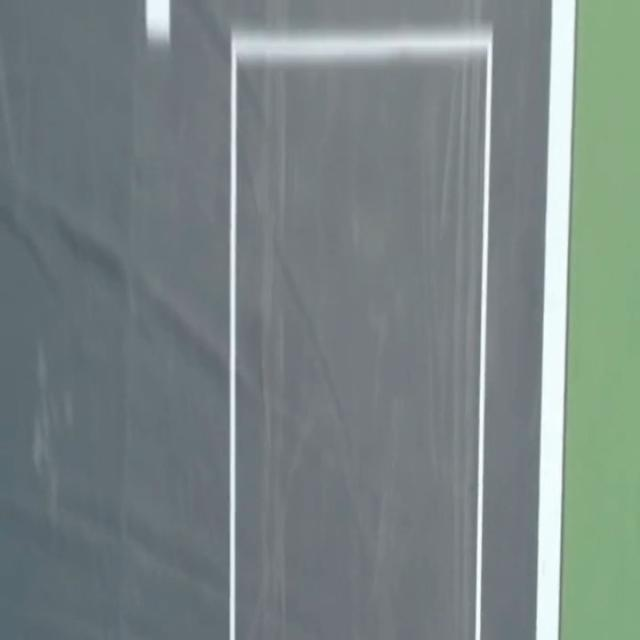center: (145, 0, 170, 44)
right: (536, 0, 575, 639)
